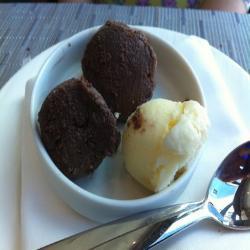icecream: (119, 89, 218, 208), (31, 75, 123, 182), (77, 15, 160, 122)
